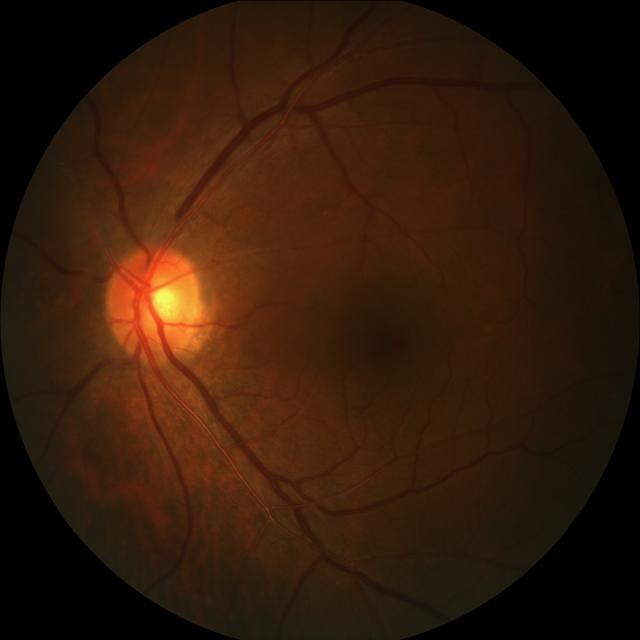OC: (136, 274, 182, 322)
OD: (106, 245, 207, 360)
